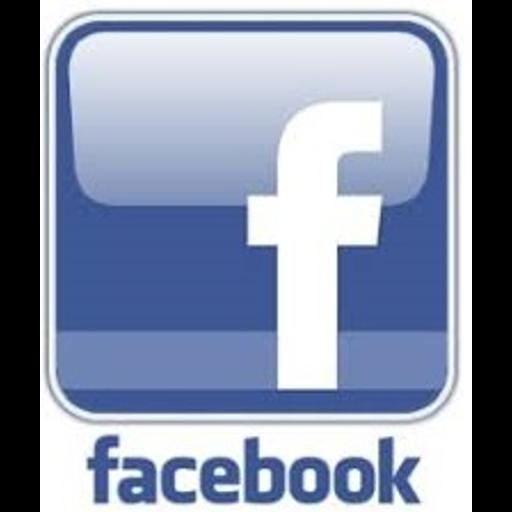Facebook: (40, 0, 472, 512)
